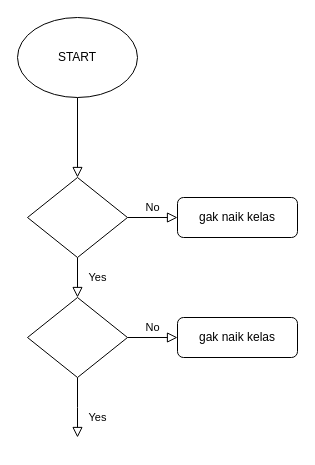
Some shapes in this 315 by 465 pixel diagram are drawn without their labels. The shapes that lost their labels are listed below. From the top down, each one's centre as x and y in pixels, then its label:
At point 77,217: "IP di atas minimal".
At point 77,337: "presensi di atas minimal".
